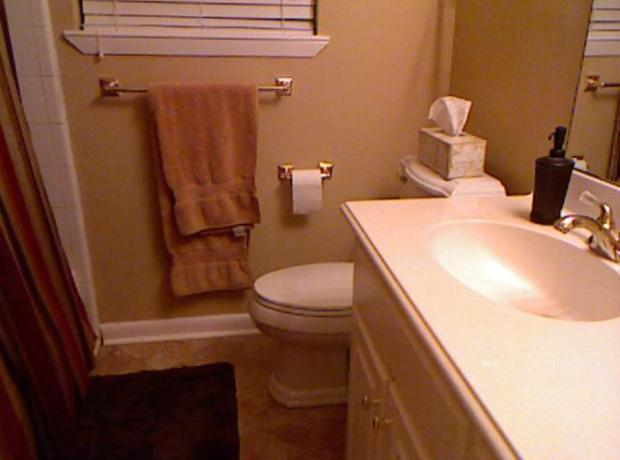Ducha: (2, 2, 95, 454)
Lavamanos: (421, 193, 618, 354)
Sanitario: (247, 151, 500, 415)
